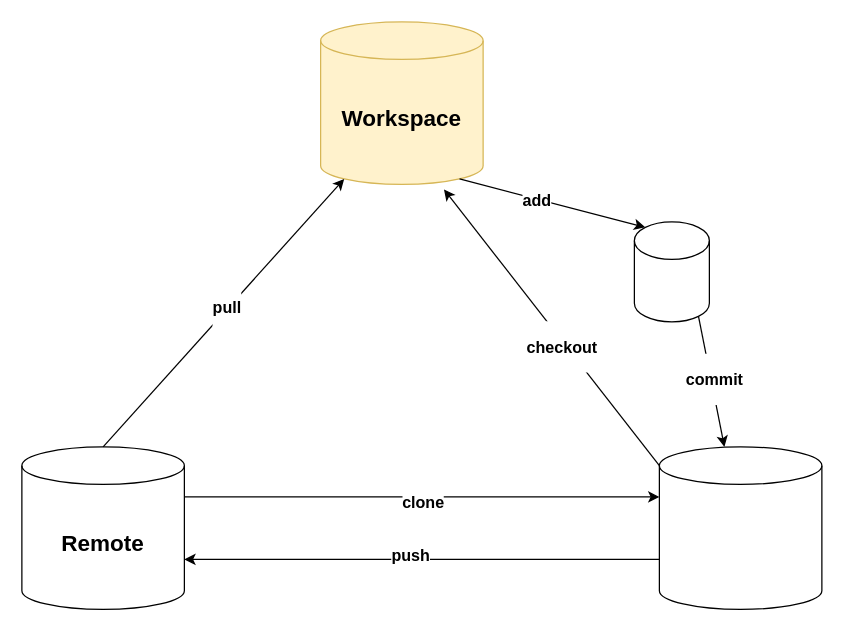
This 844x631 diagram has some shape labels left out. Each missing label, with the centre of its shape:
"index" goes at point 671,271.
"Respository" goes at point 740,527.
